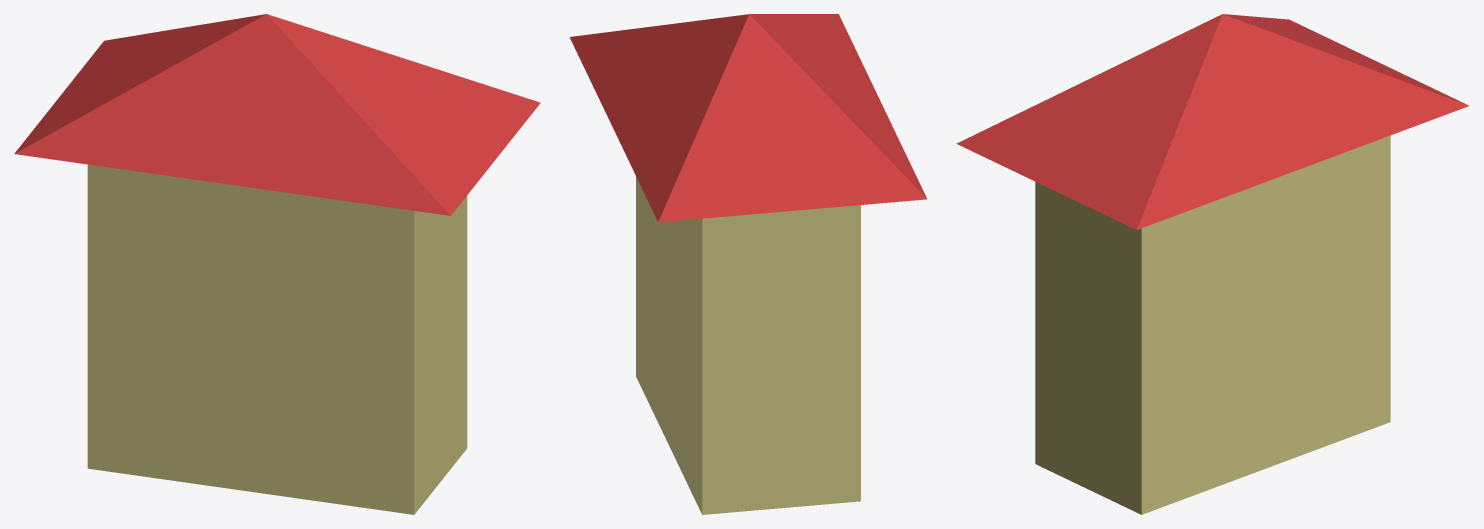
The picture shows the model from 3 angles, left to right: view 1: azimuth 30°, elevation 25°; view 2: azimuth 150°, elevation 25°; view 3: azimuth 270°, elevation 25°; orthographic projection. The views are drawn at different scales.
Bounding box in the file's own units: 6.68 × 6.89 × 6.31.
